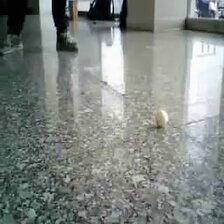w: (155, 109, 168, 125)
